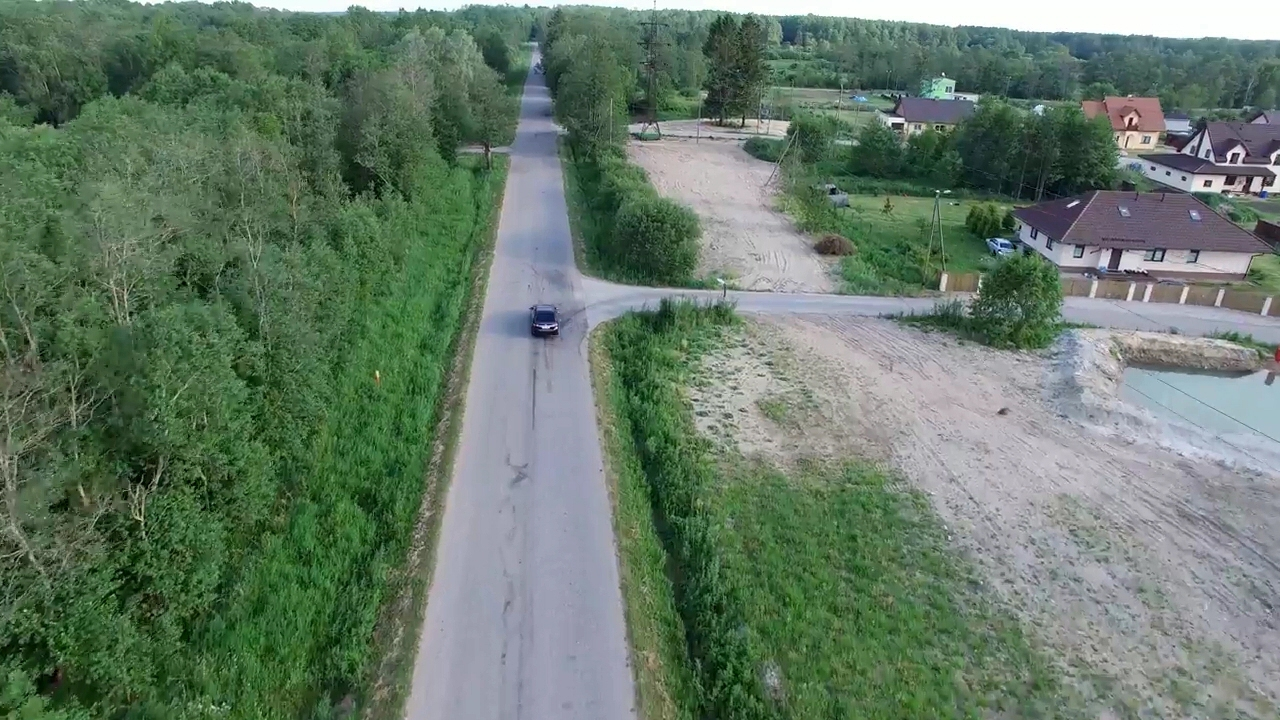araba: (529, 302, 564, 338), (984, 236, 1016, 263)
